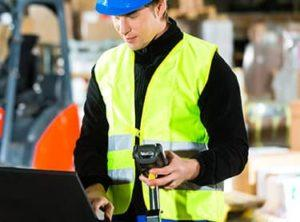helmet: (96, 1, 154, 17)
